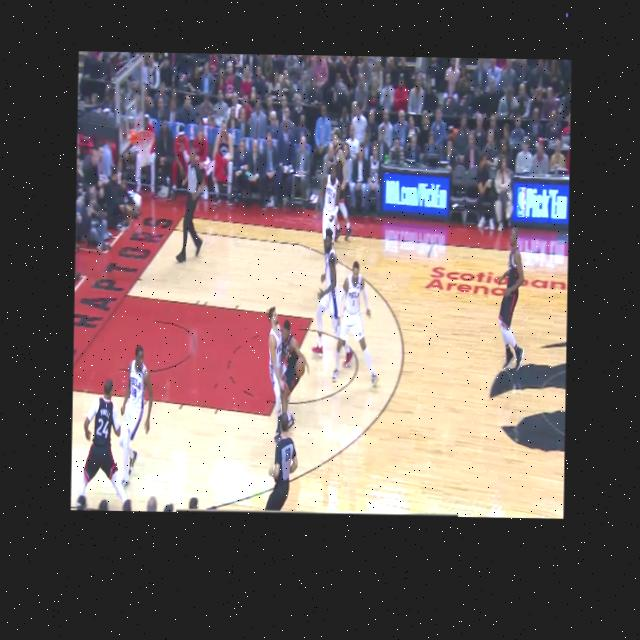Foul: (262, 290, 309, 417)
